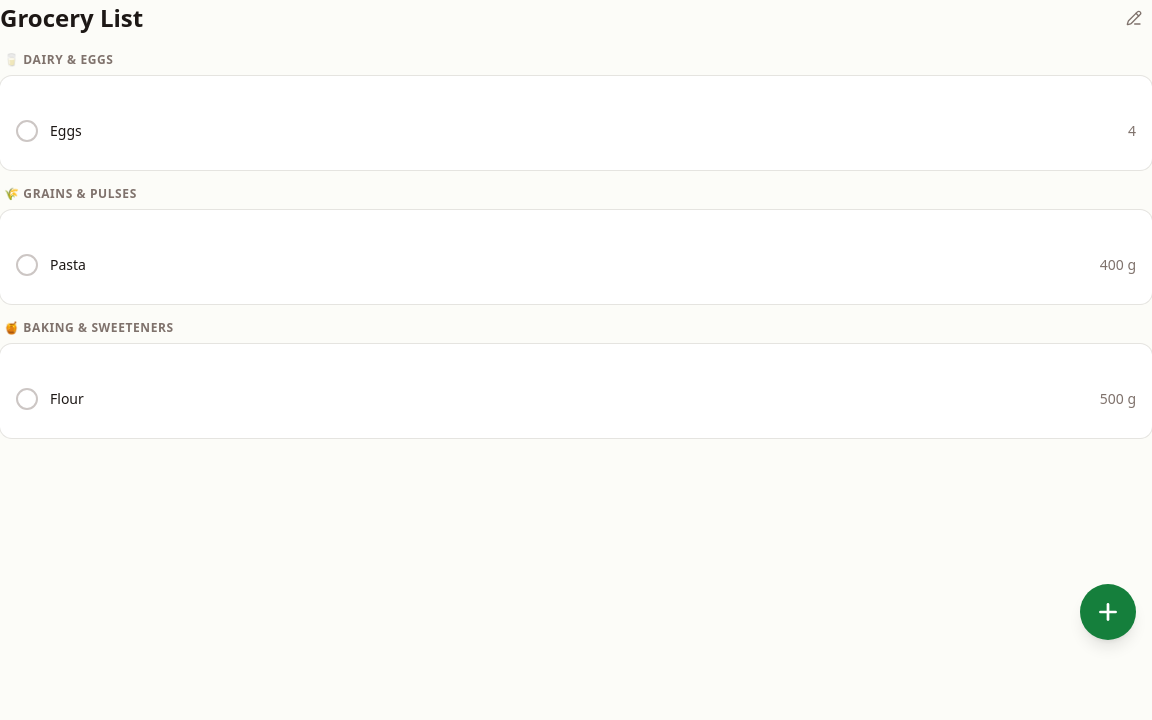
Test: GroceryListPage — add to shopping list › opens add sheet when FAB is clicked
This screenshot has width=1152, height=720.
Expected: the text "Pasta" is shown, top-left (50, 255), bottom-right (86, 275)
Click the button named "Add to Shopping List".
click(1108, 612)  # box top-left (1080, 584), bottom-right (1136, 640)
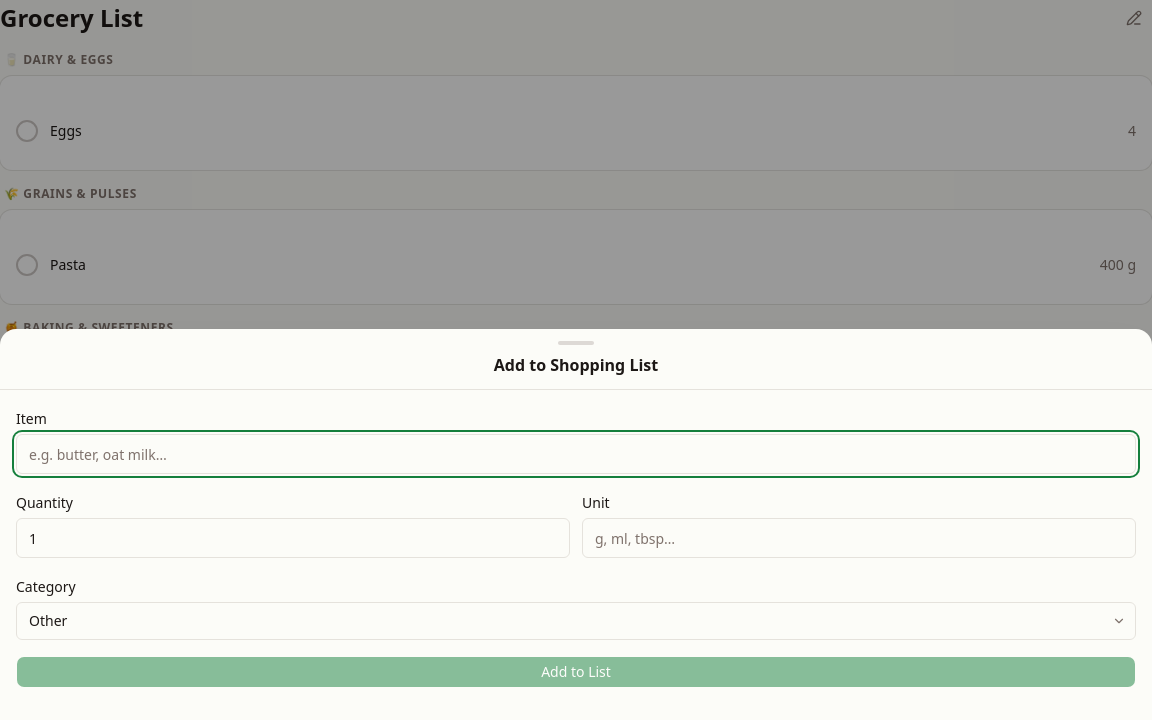
Now the field with placeholder "e.g. butter, oat milk…" is shown, box top-left (16, 434), bottom-right (1136, 474)
